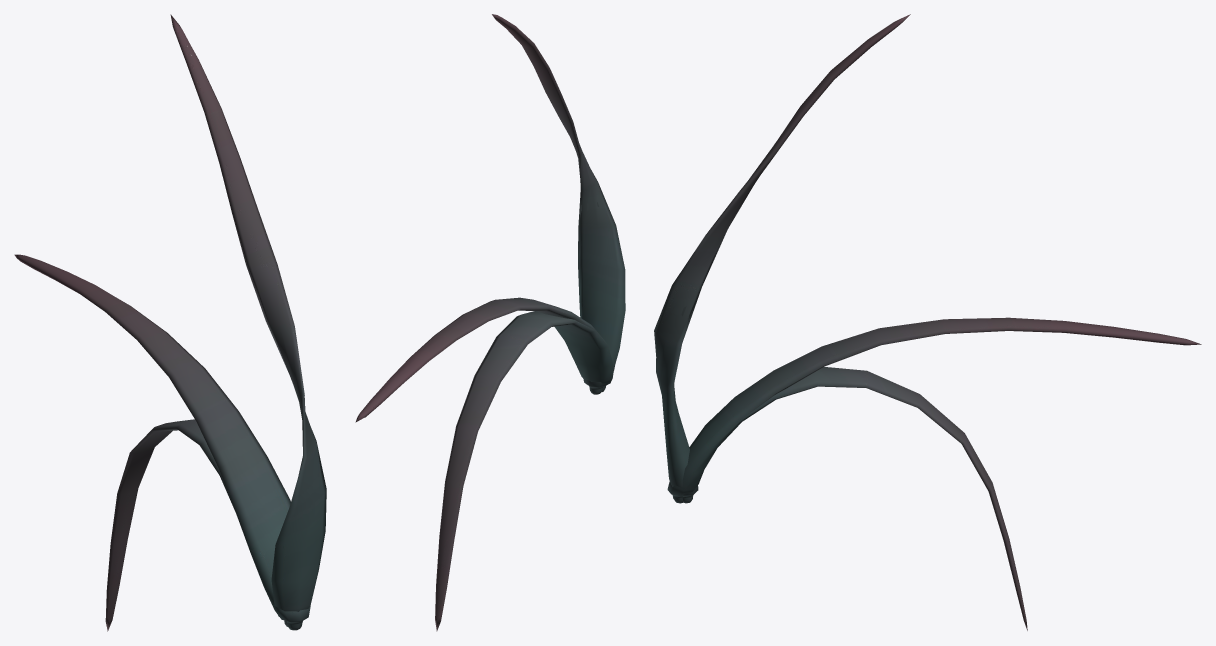
Rendered from Elevating_Leaves.fbx.
The picture shows the model from 3 angles, left to right: view 1: azimuth 30°, elevation 25°; view 2: azimuth 150°, elevation 25°; view 3: azimuth 270°, elevation 25°; orthographic projection. The views are drawn at different scales.
Parts seen in each view (by area): view 1: Elevating_Leaves 3, Elevating_Leaves 1, Elevating_Leaves 2; view 2: Elevating_Leaves 3, Elevating_Leaves 2, Elevating_Leaves 1; view 3: Elevating_Leaves 1, Elevating_Leaves 3, Elevating_Leaves 2.
Boxes of the visible parts, x1=… form: Elevating_Leaves 3: x1=170, y1=14, x2=326, y2=626; Elevating_Leaves 1: x1=14, y1=254, x2=310, y2=630; Elevating_Leaves 2: x1=105, y1=419, x2=310, y2=631; Elevating_Leaves 3: x1=492, y1=14, x2=625, y2=394; Elevating_Leaves 2: x1=435, y1=311, x2=611, y2=631; Elevating_Leaves 1: x1=355, y1=297, x2=613, y2=422; Elevating_Leaves 1: x1=668, y1=317, x2=1201, y2=503; Elevating_Leaves 3: x1=654, y1=14, x2=910, y2=503; Elevating_Leaves 2: x1=667, y1=367, x2=1027, y2=630.
Bounding box in the file's own units: 125 × 1429 × 1148.
